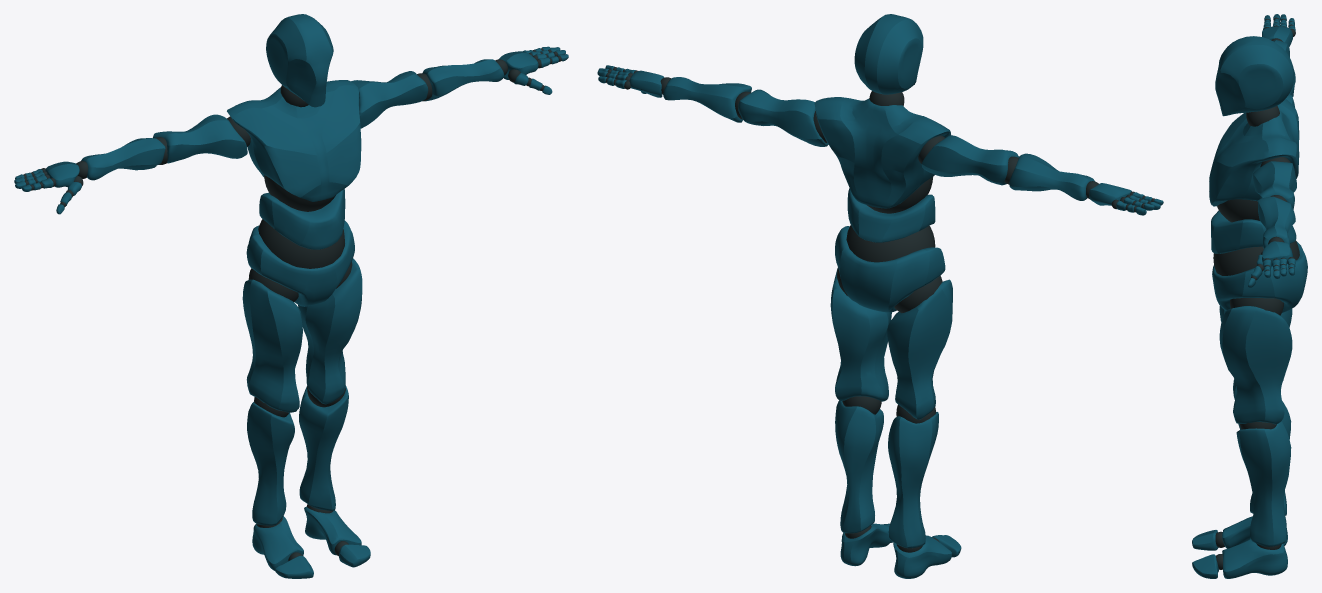
Rendered from Samba Dancing2.fbx.
The picture shows the model from 3 angles, left to right: view 1: azimuth 30°, elevation 25°; view 2: azimuth 150°, elevation 25°; view 3: azimuth 270°, elevation 25°; orthographic projection. The views are drawn at different scales.
Visible parts, largest first — view 1: node_id58 (×2); view 2: node_id58 (×2); view 3: node_id58 (×2).
Part boxes in pixels (x1=…): node_id58 (×2): x1=14, y1=14, x2=568, y2=578; node_id58 (×2): x1=597, y1=14, x2=1163, y2=578; node_id58 (×2): x1=1192, y1=14, x2=1307, y2=578.
Bounding box in the file's own units: 0.2437 × 0.226 × 0.0456.
